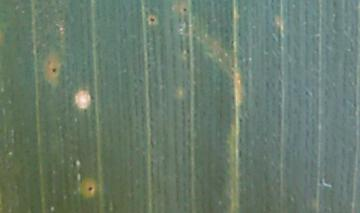tarspot: (49, 65, 58, 74), (84, 185, 95, 192), (236, 135, 243, 145), (237, 147, 243, 158), (148, 16, 157, 23), (302, 89, 310, 96), (89, 94, 96, 102), (184, 47, 191, 55), (181, 7, 189, 13), (237, 116, 243, 124), (318, 176, 323, 185), (236, 29, 241, 37), (331, 1, 336, 9), (83, 106, 88, 113), (45, 197, 50, 202)
